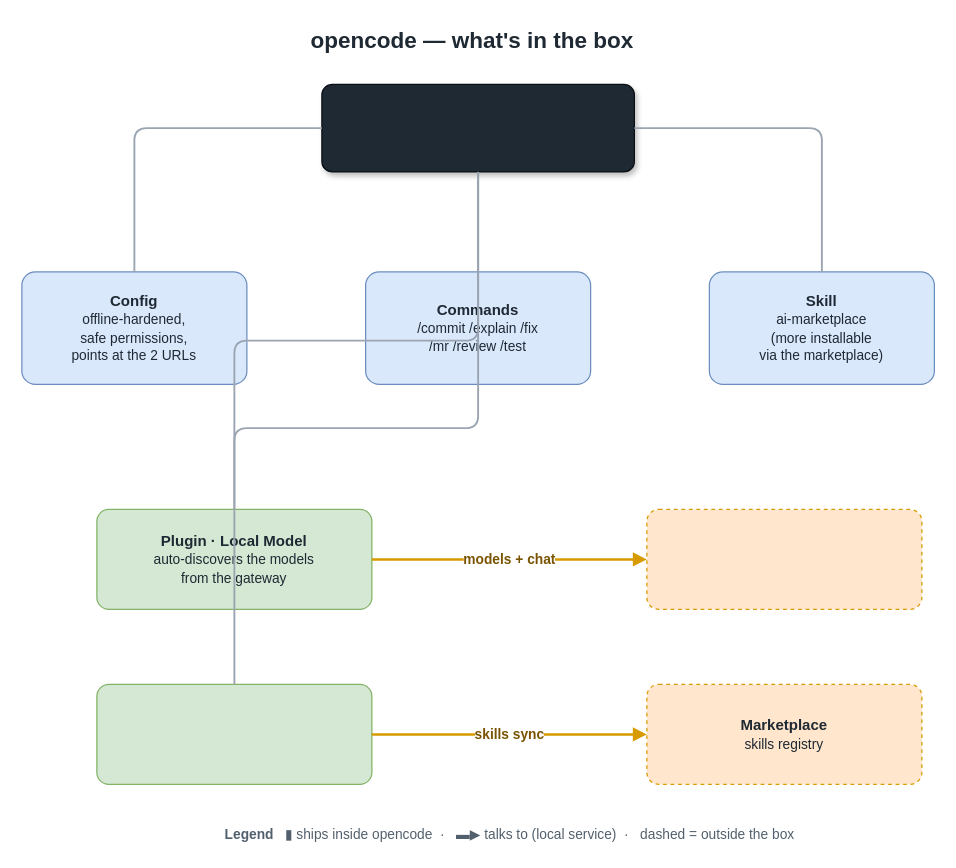
This 956x868 diagram has some shape labels left out. Each missing label, with the centre of its shape:
"LLM Gateway OpenAI-compatible model provider" goes at [784,558].
"opencode self-contained · offline AI coding agent" goes at [479,129].
"Plugin · Marketplace installs & syncs skills on demand" goes at [234,733].
